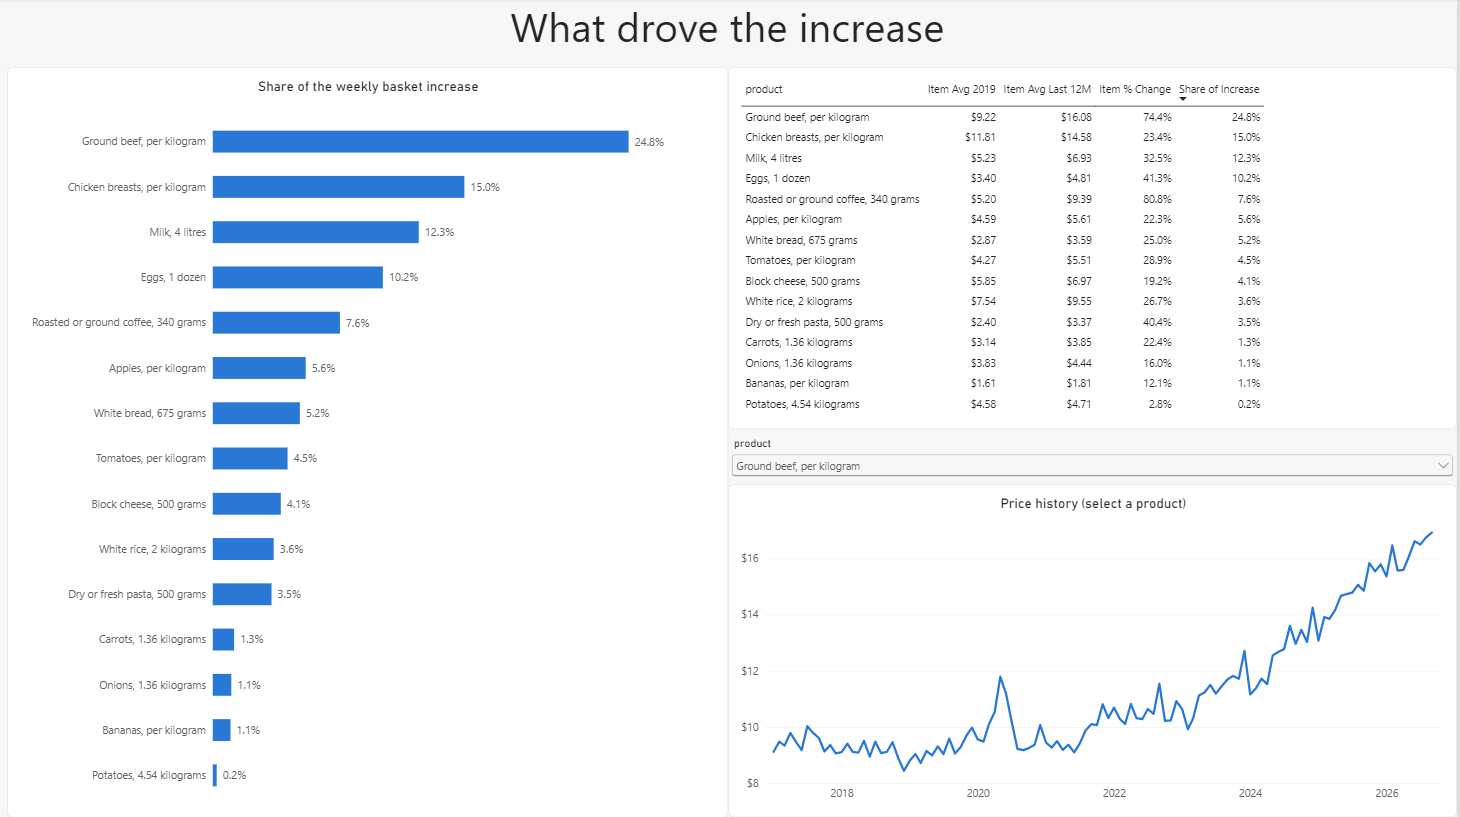

What the dashboard file says about the page in this screenshot:
{"tool":"powerbi","page":{"name":"What drove the increase","canvas":[1920,1080],"ordinal":1},"visuals":[{"type":"clusteredBarChart","title":"Share of the weekly basket increase","fields":{"Category":["basket.product"],"Y":["prices_clean.Share of Increase"]},"box":[10.2,90.5,949.8,989.2],"z":0},{"type":"tableEx","fields":{"Values":["basket.product","prices_clean.Item Avg 2019","prices_clean.Item Avg Last 12M","prices_clean.Item % Change","prices_clean.Share of Increase"]},"box":[960,90.5,960,477.1],"z":1000},{"type":"slicer","fields":{"Values":["basket.product"]},"box":[960,577.8,960,52.5],"z":2000},{"type":"lineChart","title":"Price history (select a product)","fields":{"Category":["Date.MonthStart"],"Y":["Avg(prices_clean.price)"]},"box":[960,640.5,960,439.1],"z":3000},{"type":"textbox","box":[561.7,0,796.6,116.7],"z":4000}]}

Visuals, with their boxes in screenshot pixels (x1, y1, x2, y2), scaled from the page's 1920x1080 canvas onto the 1460x817 screenshot:
"Share of the weekly basket increase" clusteredBarChart: <box>8,68,730,816</box>
tableEx - basket.product x prices_clean.Item Avg 2019: <box>730,68,1459,429</box>
slicer - basket.product: <box>730,437,1459,477</box>
"Price history (select a product)" lineChart: <box>730,485,1459,816</box>
textbox: <box>427,0,1033,88</box>
